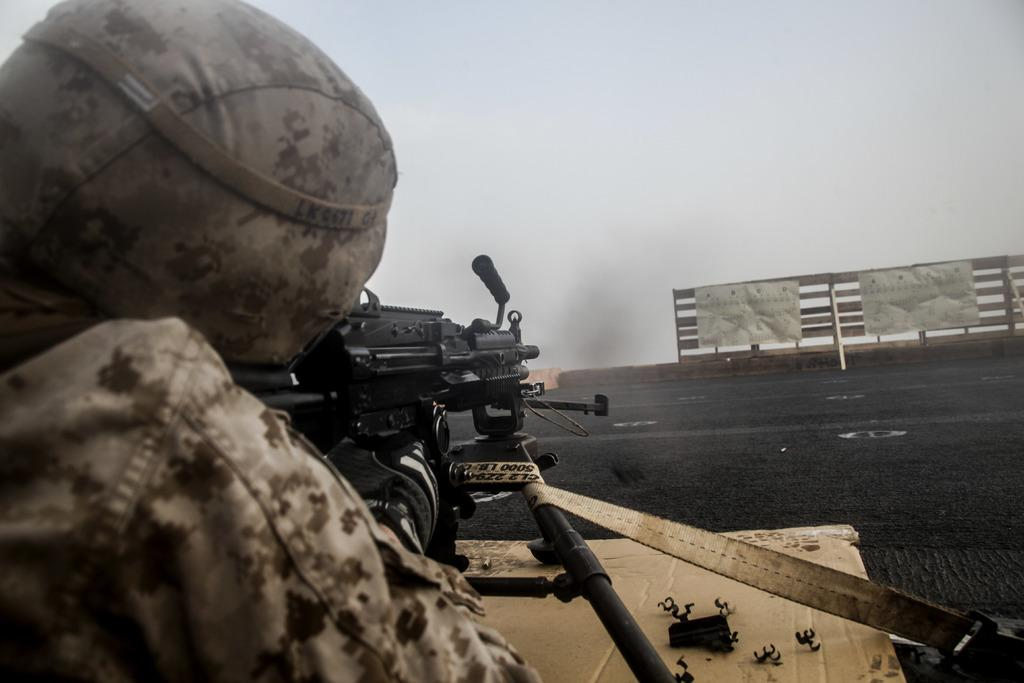Rifle: (278, 284, 563, 487)
